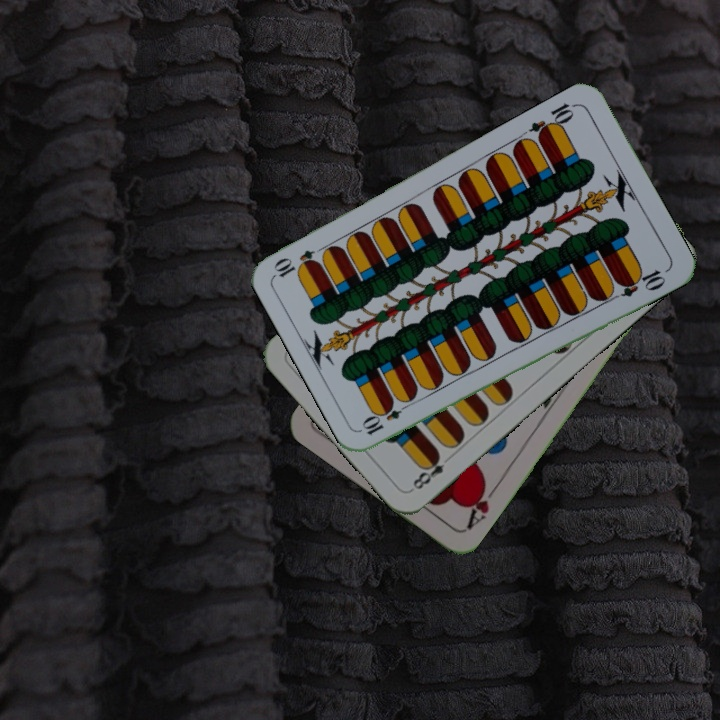E10: (525, 99, 580, 143), (358, 397, 414, 438)
E8: (407, 449, 456, 494)
HA: (462, 477, 500, 533)
